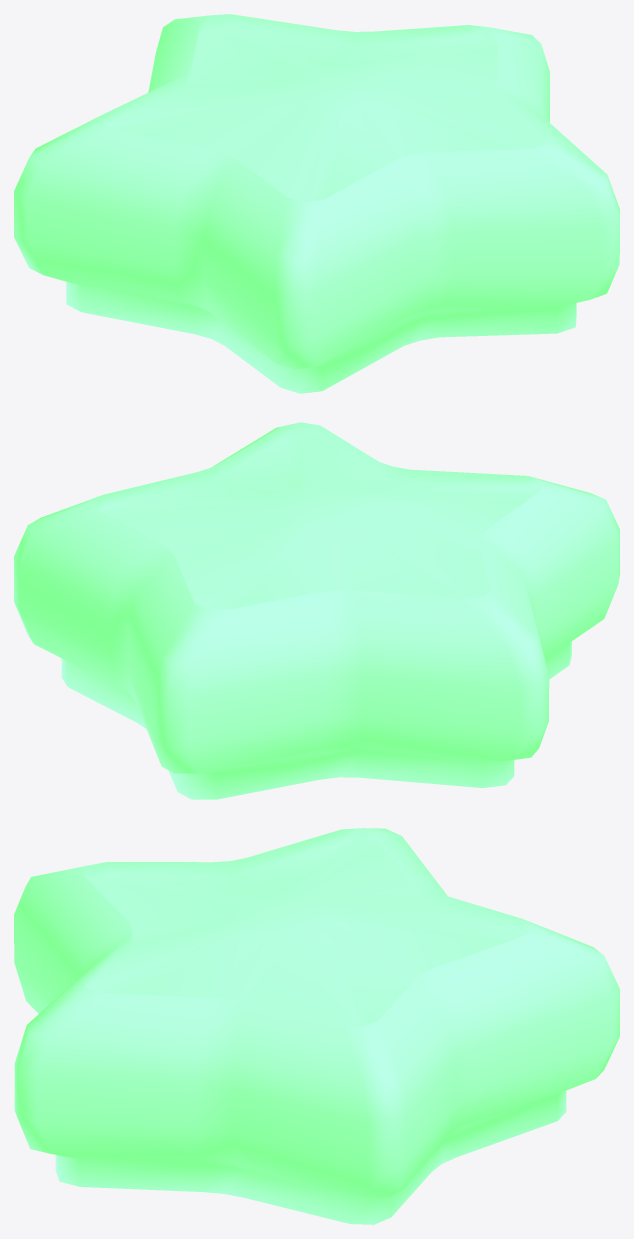
The model's file is invisibility_collectible.glb.
The picture shows the model from 3 angles, top to bottom: view 1: azimuth 30°, elevation 25°; view 2: azimuth 150°, elevation 25°; view 3: azimuth 270°, elevation 25°; orthographic projection. The views are drawn at different scales.
Parts seen in each view (by area): view 1: pStar_Low; view 2: pStar_Low; view 3: pStar_Low.
Boxes of the visible parts, bbox=[...] form: pStar_Low: bbox=[14, 14, 619, 393]; pStar_Low: bbox=[14, 422, 619, 799]; pStar_Low: bbox=[14, 828, 619, 1224].
Bounding box in the file's own units: 1.82 × 0.6356 × 1.74.
